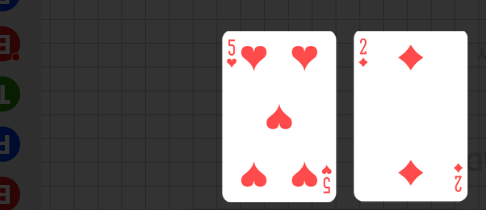2D: (358, 37, 370, 70)
5H: (226, 38, 239, 70)
